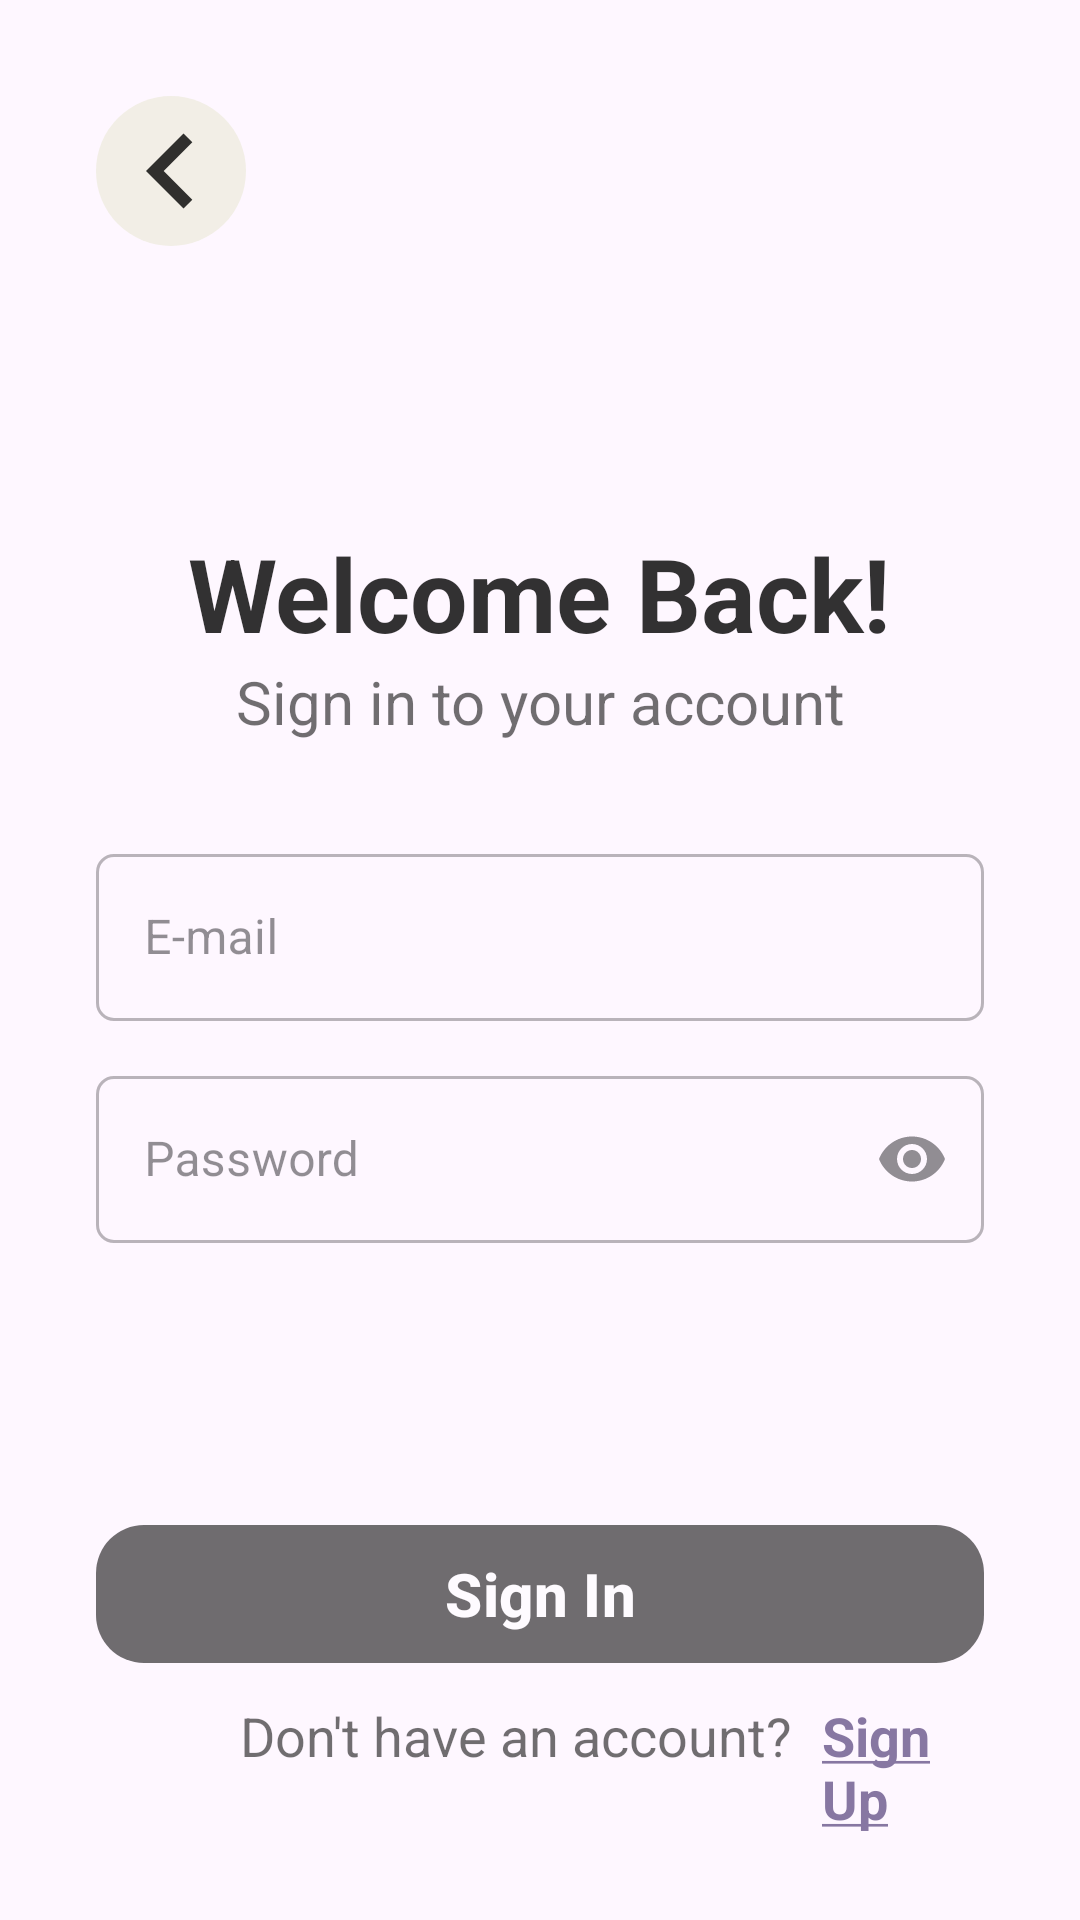

Screen size 1080w x 1920h. Icon name, then its box in pixels as (x1,y1,x2,y2):
back: (97,96,245,246)
